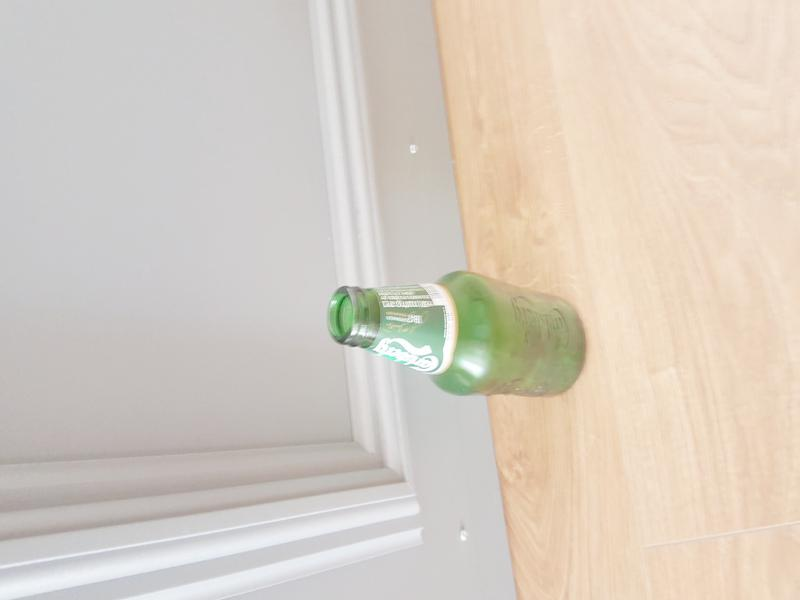Beer: (328, 270, 587, 398)
